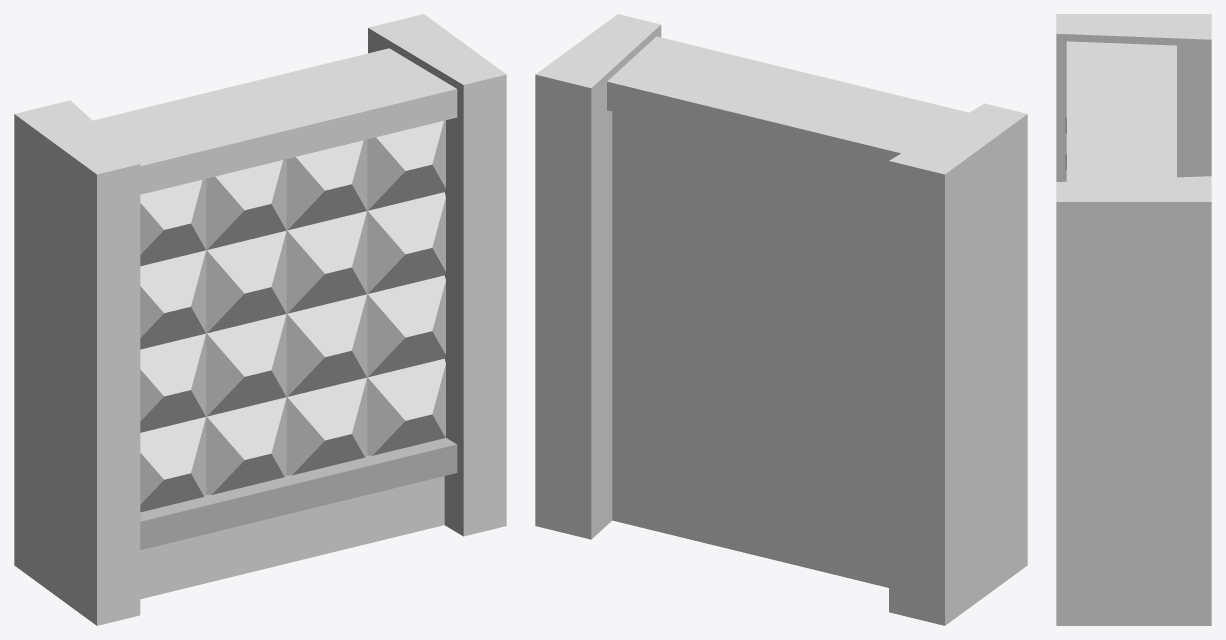
File: Fence 2.fbx
The picture shows the model from 3 angles, left to right: view 1: azimuth 30°, elevation 25°; view 2: azimuth 150°, elevation 25°; view 3: azimuth 270°, elevation 25°; orthographic projection. The views are drawn at different scales.
Parts seen in each view (by area): view 1: Fence 2; view 2: Fence 2; view 3: Fence 2.
Part boxes in pixels (x1,y1,x2,y2): Fence 2: [14, 14, 506, 625]; Fence 2: [535, 14, 1027, 625]; Fence 2: [1056, 14, 1211, 625].
Bounding box in the file's own units: 443 × 466 × 155.
